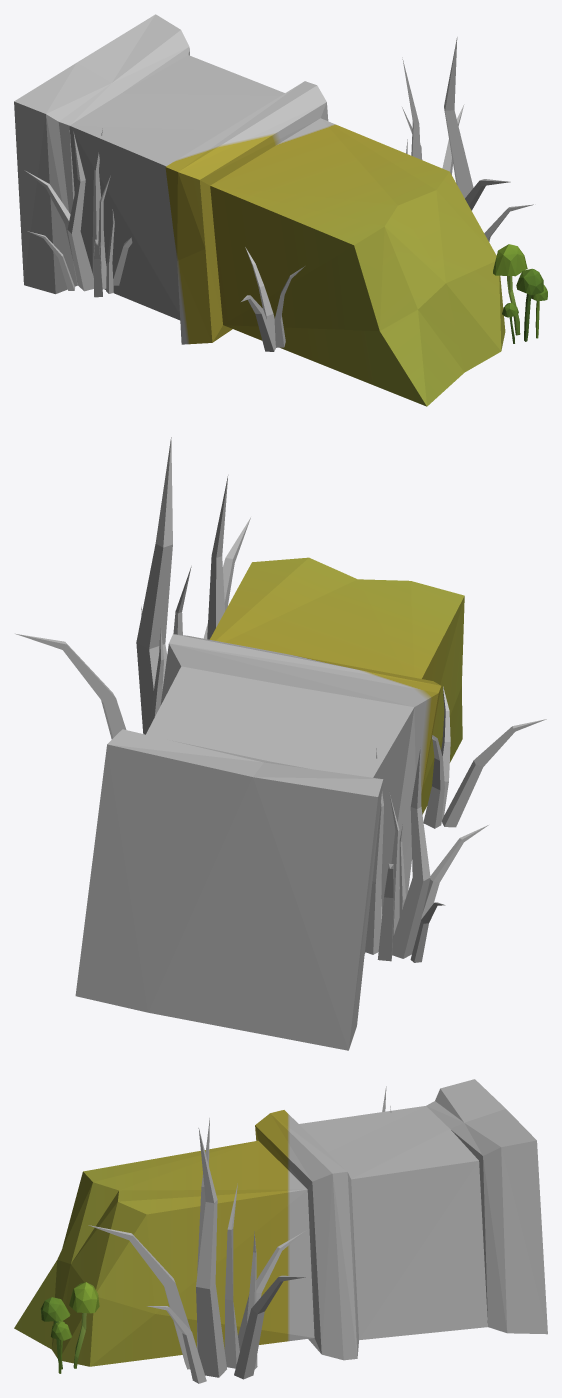
Rendered from Ruins_09.fbx.
3 views of the same model, one above another, from view 1: azimuth 30°, elevation 25°; view 2: azimuth 150°, elevation 25°; view 3: azimuth 270°, elevation 25° (orthographic). The views are drawn at different scales.
Visible parts, largest first — view 1: Ruins_09; view 2: Ruins_09; view 3: Ruins_09.
Boxes of the visible parts, bbox=[...] form: Ruins_09: bbox=[14, 14, 547, 406]; Ruins_09: bbox=[15, 437, 546, 1050]; Ruins_09: bbox=[14, 1079, 547, 1383].
Bounding box in the file's own units: 3.05 × 2.21 × 3.81.
